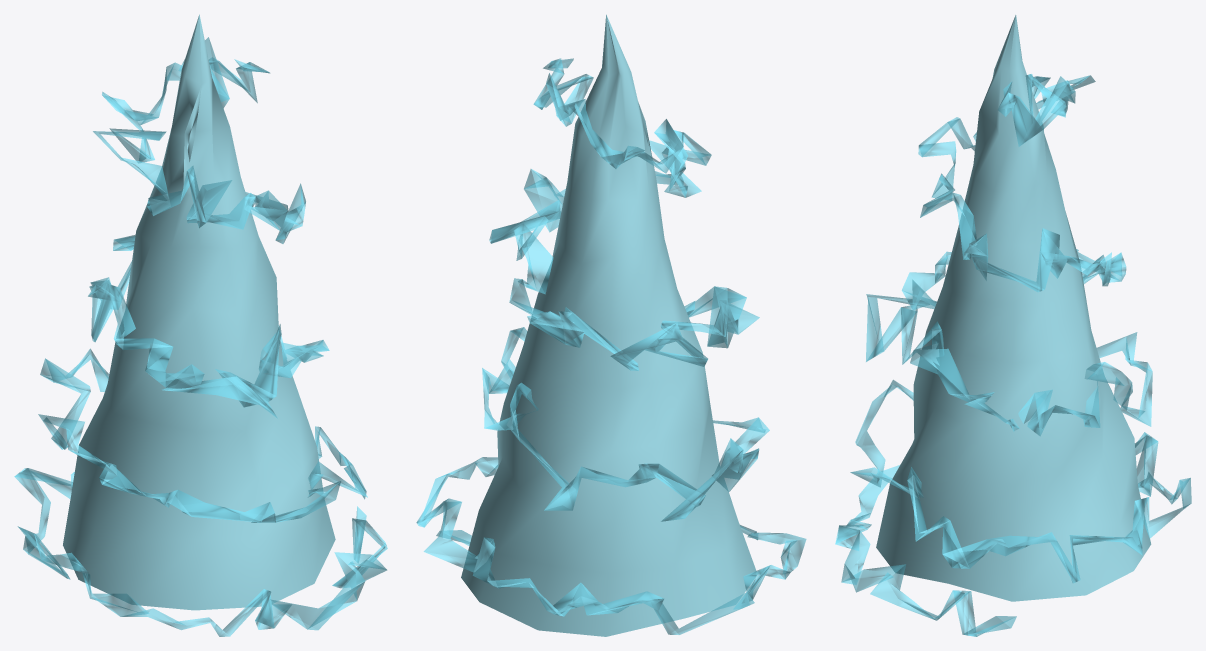
File: Beam4.FBX
3 renders of one model, left to right at view 1: azimuth 30°, elevation 25°; view 2: azimuth 150°, elevation 25°; view 3: azimuth 270°, elevation 25°, orthographic. The views are drawn at different scales.
Visible parts, largest first — view 1: Cone001, Helix001; view 2: Cone001, Helix001; view 3: Cone001, Helix001.
Boxes of the visible parts, box(x1,y1,x2,y2) form: Cone001: box(63, 14, 335, 610); Helix001: box(14, 37, 387, 636); Cone001: box(461, 14, 757, 636); Helix001: box(416, 58, 806, 634); Cone001: box(876, 15, 1151, 601); Helix001: box(835, 74, 1191, 636).
Size of the model in its own units: 537 by 880 by 510.
